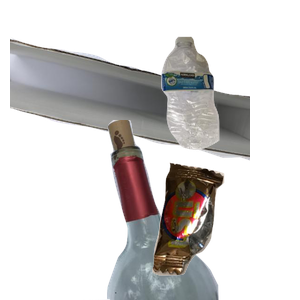cardboard: (10, 35, 250, 188)
glass: (83, 120, 294, 300)
plastic: (159, 34, 300, 176)
trash: (150, 160, 300, 300)
